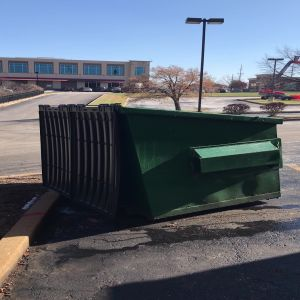Dumpster: (36, 102, 286, 224)
